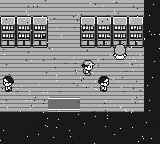main: (82, 61, 95, 75)
no-caminable: (1, 0, 160, 143), (80, 16, 143, 48), (0, 16, 47, 48)
npc: (113, 44, 127, 59), (2, 76, 14, 91), (98, 76, 110, 91)
puerta: (44, 95, 83, 111)
